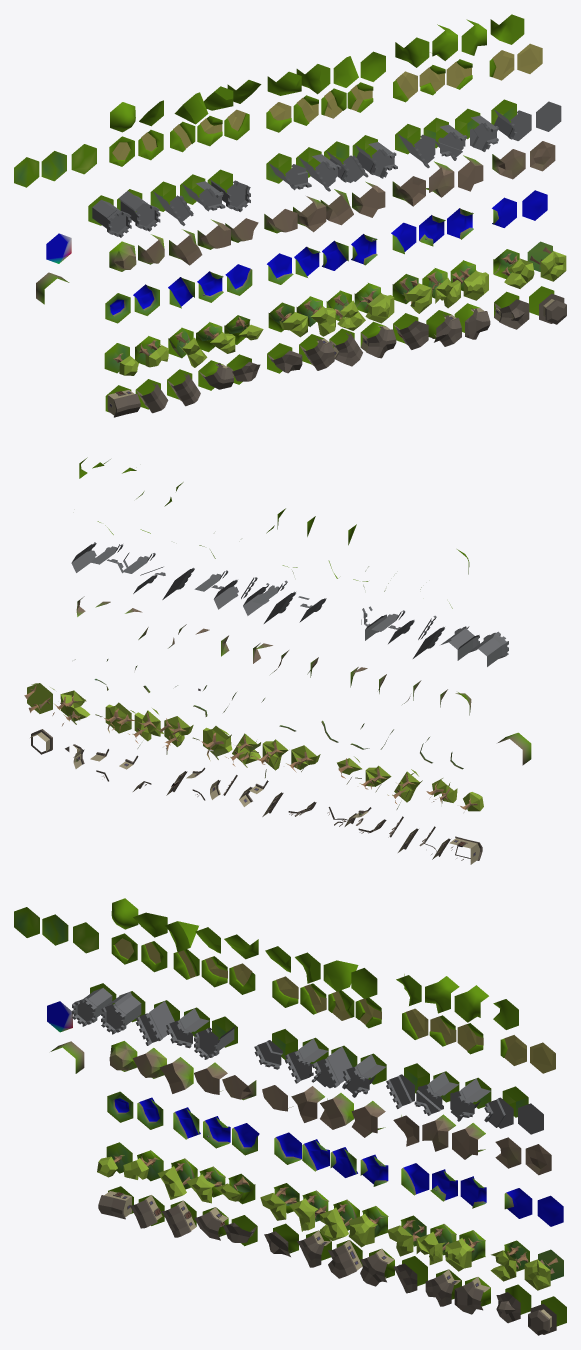
Rendered from Hex.glb.
3 views of the same model, one above another, from view 1: azimuth 30°, elevation 25°; view 2: azimuth 150°, elevation 25°; view 3: azimuth 330°, elevation 25° (orthographic). The views are drawn at different scales.
Visible parts, largest first — view 1: Wall_T4, Wall_Q3, Wall_F, Wall_N, Tree_F, Tree_T4, Wall_Q1, Wall_E, Wall_Q2, House_H, Tree_H, Wall_T1 (+86 smaller); view 2: Tree_T4, Wall_N, Wall_T4, Tree_F, Tree_Q3, Tree_H, Tree_Q2, Tree_Q1, Wall_E, Tree_T3, Tree_T2, Wall_T2; view 3: Wall_E, Wall_P3, Wall_T4, Wall_Q2, Wall_T3, Wall_Q3, Tree_Q3, Wall_P1, Wall_F, Wall_Q1, Tree_H, Tree_T4 (+82 smaller).
Boxes of the visible parts, <box> form: Wall_T4: <box>352,135,397,178</box>; Wall_Q3: <box>455,108,498,151</box>; Wall_F: <box>491,99,531,140</box>; Wall_N: <box>88,195,131,237</box>; Tree_F: <box>493,249,534,288</box>; Tree_T4: <box>354,283,394,323</box>; Wall_Q1: <box>395,124,435,168</box>; Wall_E: <box>117,189,160,231</box>; Wall_Q2: <box>423,117,467,160</box>; House_H: <box>529,286,566,324</box>; Tree_H: <box>527,241,566,281</box>; Wall_T1: <box>266,153,311,190</box>; Tree_T4: <box>192,726,232,760</box>; Wall_N: <box>469,631,508,666</box>; Wall_T4: <box>194,570,238,609</box>; Tree_F: <box>52,690,90,725</box>; Tree_Q3: <box>95,702,135,733</box>; Tree_H: <box>24,683,54,713</box>; Tree_Q2: <box>124,708,163,748</box>; Tree_Q1: <box>157,716,193,754</box>; Wall_E: <box>441,626,479,660</box>; Tree_T3: <box>225,733,260,767</box>; Tree_T2: <box>252,739,288,777</box>; Wall_T2: <box>252,580,295,623</box>; Wall_E: <box>101,991,145,1034</box>; Wall_P3: <box>194,1016,237,1059</box>; Wall_T4: <box>342,1053,386,1097</box>; Wall_Q2: <box>414,1071,459,1115</box>; Wall_T3: <box>311,1045,357,1088</box>; Wall_Q3: <box>450,1077,491,1121</box>; Tree_Q3: <box>445,1230,485,1271</box>; Wall_P1: <box>136,1000,179,1045</box>; Wall_F: <box>484,1086,528,1128</box>; Wall_Q1: <box>386,1063,429,1108</box>; Tree_H: <box>524,1249,563,1290</box>; Tree_T4: <box>348,1206,388,1247</box>.
Size of the model in its own units: 36.83 by 20.73 by 3.6.
